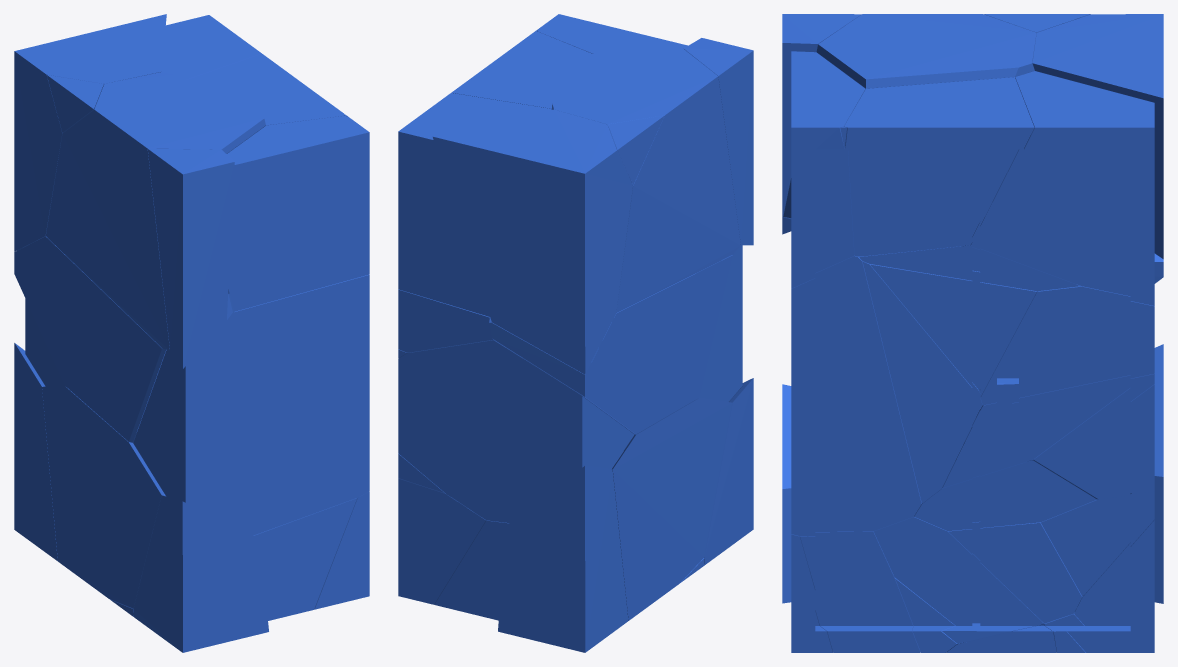
The model's file is armario explodido.fbx.
3 views of the same model, side by side, from view 1: azimuth 30°, elevation 25°; view 2: azimuth 150°, elevation 25°; view 3: azimuth 270°, elevation 25° (orthographic). The views are drawn at different scales.
Visible parts, largest first — view 1: Cube_cell.018, Cube_cell.007, Cube_cell.030, Cube_cell.009, Cube_cell.019, Cube_cell.005, Cube_cell.017, Cube_cell.025, Cube_cell.012, Cube_cell.004, Cube_cell.032, Cube_cell.024 (+3 smaller); view 2: Cube_cell.025, Cube_cell.010, Cube_cell.007, Cube_cell.004, Cube_cell.009, Cube_cell.005, Cube_cell.024, Cube_cell.031, Cube_cell.017, Cube_cell.032, Cube_cell.019, Cube_cell.014 (+5 smaller); view 3: Cube_cell.024, Cube_cell.018, Cube_cell.032, Cube_cell.021, Cube_cell.007, Cube_cell.030, Cube_cell.013, Cube_cell.025, Cube_cell.012, Cube_cell.023, Cube_cell.001, Cube_cell.027 (+15 smaller).
Part boxes in pixels (x1=…): Cube_cell.018: x1=133, y1=274, x2=369, y2=535; Cube_cell.007: x1=46, y1=72, x2=265, y2=350; Cube_cell.030: x1=227, y1=116, x2=369, y2=311; Cube_cell.009: x1=42, y1=386, x2=165, y2=608; Cube_cell.019: x1=133, y1=495, x2=268, y2=652; Cube_cell.005: x1=14, y1=236, x2=165, y2=442; Cube_cell.017: x1=148, y1=148, x2=234, y2=368; Cube_cell.025: x1=14, y1=14, x2=166, y2=251; Cube_cell.012: x1=253, y1=497, x2=357, y2=620; Cube_cell.004: x1=14, y1=343, x2=57, y2=561; Cube_cell.032: x1=186, y1=54, x2=344, y2=153; Cube_cell.024: x1=161, y1=15, x2=261, y2=79; Cube_cell.025: x1=433, y1=109, x2=632, y2=374; Cube_cell.010: x1=398, y1=340, x2=634, y2=522; Cube_cell.007: x1=552, y1=48, x2=740, y2=312; Cube_cell.004: x1=498, y1=465, x2=628, y2=652; Cube_cell.009: x1=612, y1=398, x2=732, y2=620; Cube_cell.005: x1=489, y1=255, x2=732, y2=434; Cube_cell.024: x1=398, y1=93, x2=551, y2=316; Cube_cell.031: x1=398, y1=478, x2=485, y2=604; Cube_cell.017: x1=683, y1=38, x2=753, y2=245; Cube_cell.032: x1=451, y1=31, x2=593, y2=109; Cube_cell.019: x1=704, y1=378, x2=753, y2=564; Cube_cell.014: x1=434, y1=520, x2=508, y2=620; Cube_cell.024: x1=963, y1=71, x2=1154, y2=305; Cube_cell.018: x1=791, y1=255, x2=922, y2=536; Cube_cell.032: x1=844, y1=77, x2=1034, y2=256; Cube_cell.021: x1=979, y1=284, x2=1154, y2=405; Cube_cell.007: x1=816, y1=14, x2=1055, y2=88; Cube_cell.030: x1=791, y1=51, x2=865, y2=288; Cube_cell.013: x1=862, y1=256, x2=982, y2=503; Cube_cell.025: x1=1032, y1=14, x2=1163, y2=258; Cube_cell.012: x1=799, y1=531, x2=920, y2=652; Cube_cell.023: x1=873, y1=517, x2=1043, y2=643; Cube_cell.001: x1=867, y1=246, x2=1036, y2=396; Cube_cell.027: x1=942, y1=373, x2=1154, y2=487.
Bounding box in the file's own units: 138 × 329 × 210.
